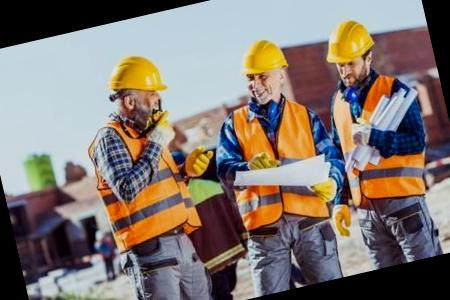helmet: (95, 48, 170, 107), (315, 16, 382, 70), (235, 35, 295, 83)
person: (193, 30, 360, 298), (66, 48, 229, 300), (302, 5, 448, 262)
